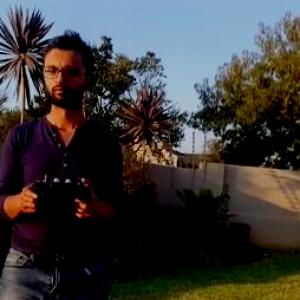follow: (0, 20, 130, 299)
